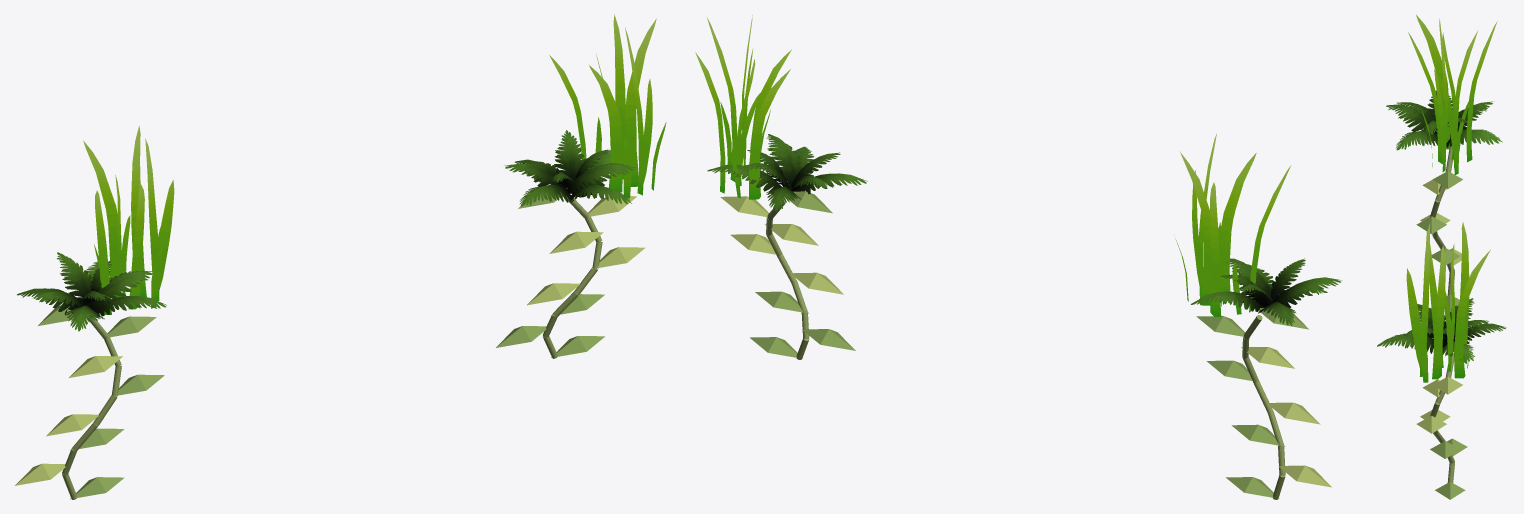
Rendered from Dry_Stone_Wall_Greenery.glb.
3 renders of one model, left to right at view 1: azimuth 30°, elevation 25°; view 2: azimuth 150°, elevation 25°; view 3: azimuth 270°, elevation 25°, orthographic. The views are drawn at different scales.
Parts seen in each view (by area): view 1: Patch_000, Patch_001; view 2: Patch_000, Patch_001; view 3: Patch_001, Patch_000.
Part boxes in pixels (box(x1,y1,x2,y2)): Patch_000: box(15, 125, 174, 499); Patch_001: box(496, 14, 666, 358); Patch_000: box(1175, 133, 1342, 499); Patch_001: box(695, 15, 867, 359); Patch_001: box(1377, 222, 1506, 499); Patch_000: box(1386, 14, 1502, 311).
Bounding box in the file's own units: 2.78 × 1.46 × 0.5777.
5 materials, 2 textured.
